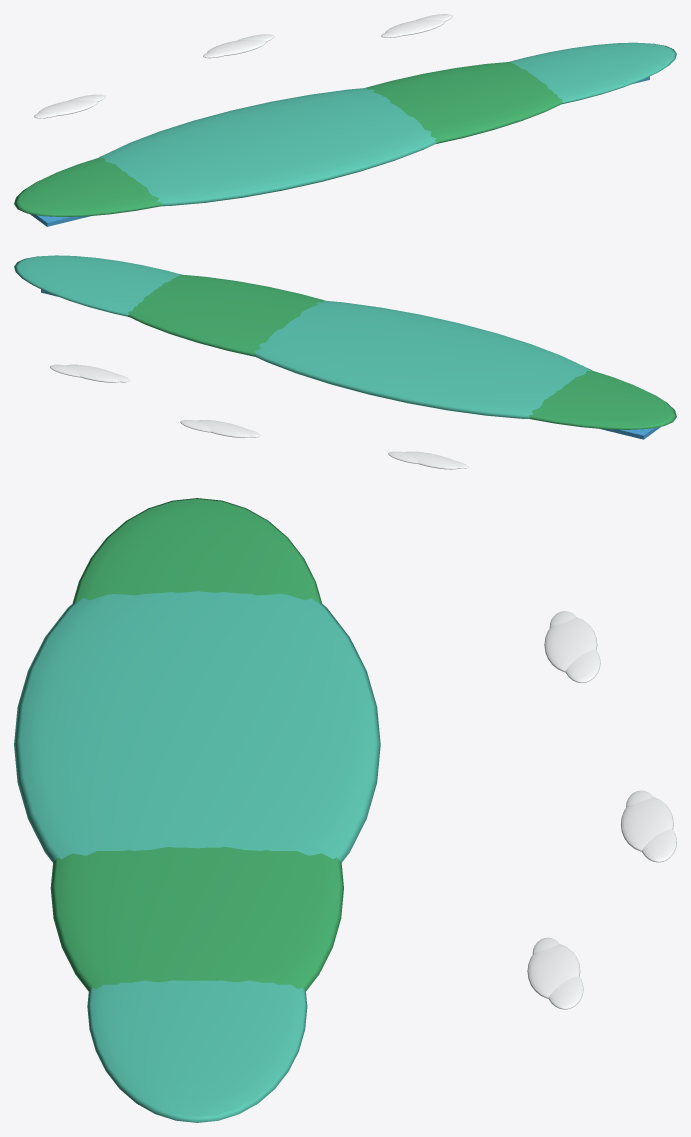
Rendered from green-hill-background.glb.
3 renders of one model, top to bottom at view 1: azimuth 30°, elevation 25°; view 2: azimuth 150°, elevation 25°; view 3: azimuth 270°, elevation 25°, orthographic. The views are drawn at different scales.
Parts seen in each view (by area): view 1: rounded parallax hill.001, rounded parallax hill.002, rounded parallax hill.003, rounded parallax hill, cloud lobe.006, cloud lobe, cloud lobe.003, ocean horizon band; view 2: rounded parallax hill.001, rounded parallax hill.002, rounded parallax hill.003, rounded parallax hill, cloud lobe, cloud lobe.006, cloud lobe.003, ocean horizon band; view 3: rounded parallax hill.001, rounded parallax hill.002, rounded parallax hill.003, rounded parallax hill, cloud lobe.006, cloud lobe, cloud lobe.003.
Boxes of the visible parts, x1,y1,x2,y2 form: rounded parallax hill.001: [99, 88, 437, 206]; rounded parallax hill.002: [365, 61, 563, 144]; rounded parallax hill.003: [509, 42, 676, 104]; rounded parallax hill: [14, 157, 161, 217]; cloud lobe.006: [385, 19, 445, 35]; cloud lobe: [38, 100, 97, 116]; cloud lobe.003: [207, 40, 266, 55]; ocean horizon band: [30, 76, 649, 226]; rounded parallax hill.001: [253, 300, 591, 418]; rounded parallax hill.002: [127, 274, 324, 356]; rounded parallax hill.003: [14, 255, 180, 316]; rounded parallax hill: [528, 370, 676, 429]; cloud lobe: [405, 451, 457, 469]; cloud lobe.006: [67, 364, 119, 382]; cloud lobe.003: [197, 420, 249, 437]; ocean horizon band: [41, 289, 660, 439]; rounded parallax hill.001: [14, 591, 380, 862]; rounded parallax hill.002: [50, 847, 343, 991]; rounded parallax hill.003: [87, 980, 307, 1122]; rounded parallax hill: [72, 498, 321, 603]; cloud lobe.006: [527, 944, 580, 998]; cloud lobe: [544, 617, 597, 672]; cloud lobe.003: [620, 797, 673, 851].
Size of the model in its own units: 174 by 4.9 by 78.1.
